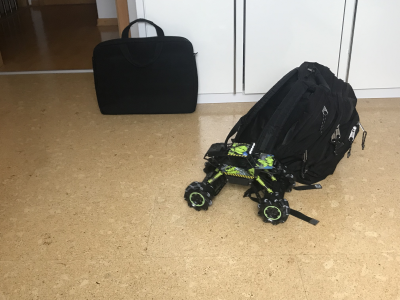remote control car: (182, 138, 298, 226)
